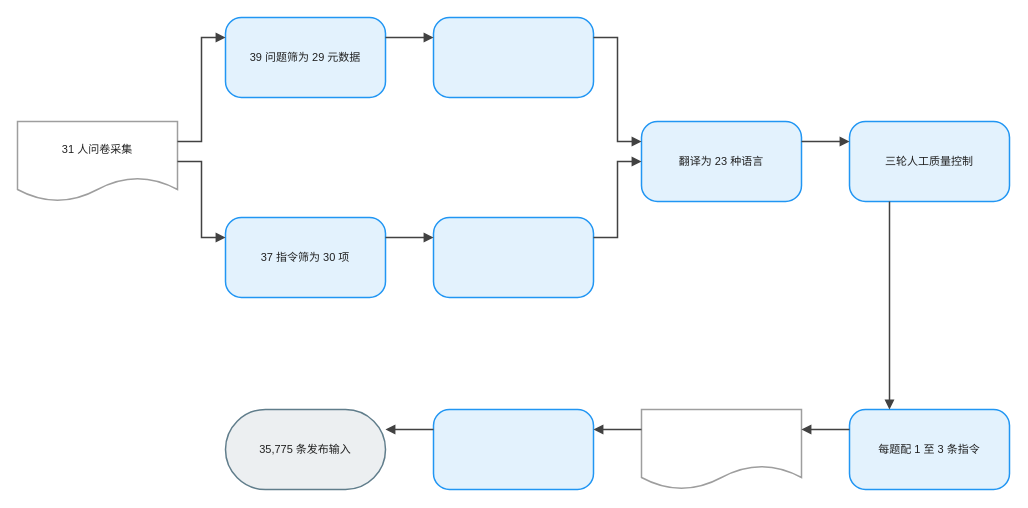
The diagram is 1028 pixels wide and 508 high, and some of its shapes have lost their labels. Each missing label, with the centre of its shape:
22 × 795 跨语打包: the point at 513,449
23 × 795 并行核心集: the point at 721,449
双模型扩展为 795 问题: the point at 513,57
扩展为 47 类指令: the point at 513,257
